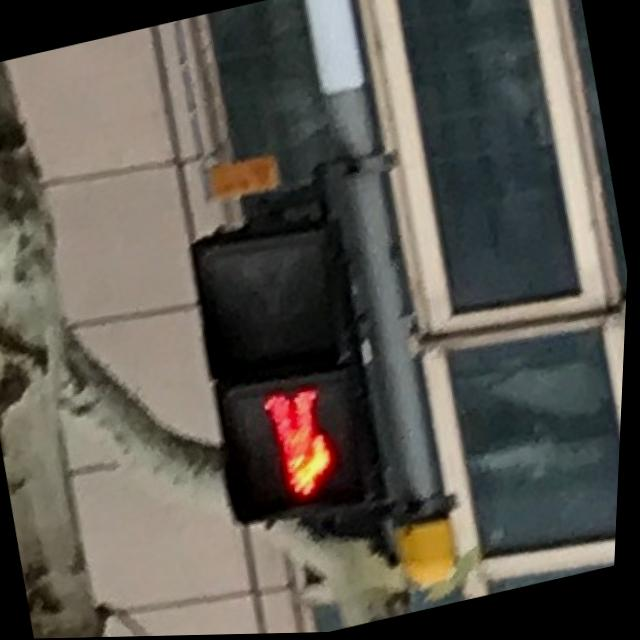red_light: (230, 364, 389, 538)
